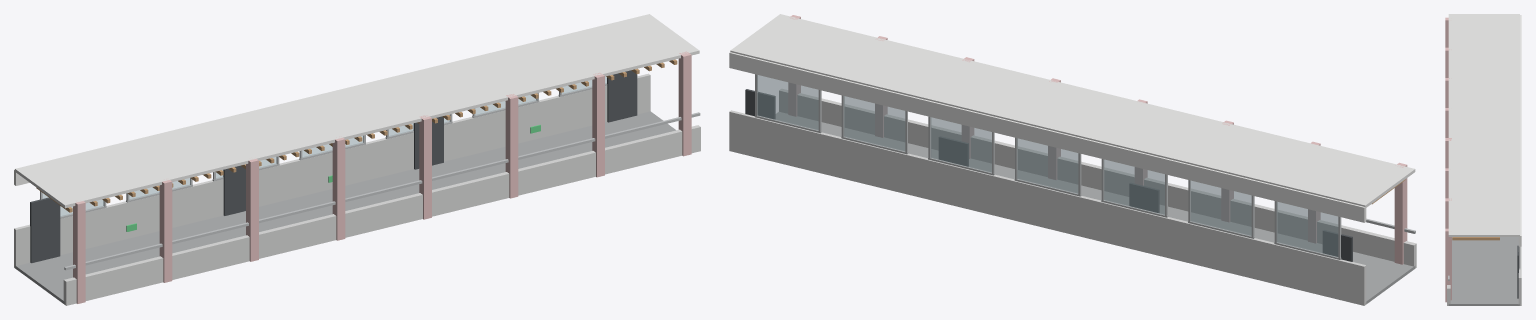
The model's file is corridor.glb.
3 renders of one model, left to right at view 1: azimuth 30°, elevation 25°; view 2: azimuth 150°, elevation 25°; view 3: azimuth 270°, elevation 25°, orthographic. The views are drawn at different scales.
Visible parts, largest first — view 1: COR_Ceiling, COR_InnerLower, COR_OuterKerb, COR_Floor, COR_RailTop, COR_Door_1, COR_Door_4, COR_OuterColumn_8, COR_OuterColumn_6, COR_OuterColumn_4, COR_OuterColumn_2, COR_OuterColumn_1 (+5 smaller); view 2: COR_Ceiling, COR_InnerLower, COR_OuterKerb, COR_InnerTop, COR_Floor, COR_ClassWindow_1_Glass, COR_ClassWindow_2_Glass, COR_ClassWindow_4_Glass, COR_ClassWindow_5_Glass, COR_ClassWindow_7_Glass, COR_ClassWindow_6_Glass, COR_ClassWindow_3_Glass (+5 smaller); view 3: COR_Ceiling, COR_Floor, COR_InnerTop, COR_OuterColumn_8, COR_WoodSlat_50, COR_InnerLower, COR_OuterColumn_5, COR_OuterColumn_7, COR_OuterColumn_2, COR_OuterColumn_1, COR_OuterColumn_6, COR_OuterColumn_3 (+3 smaller).
Boxes of the visible parts, x1,y1,x2,y2 form: COR_Ceiling: (15,14,699,208); COR_InnerLower: (14,73,650,267); COR_OuterKerb: (63,125,700,305); COR_Floor: (15,111,675,304); COR_RailTop: (64,112,700,270); COR_Door_1: (30,197,60,263); COR_Door_4: (607,70,637,122); COR_OuterColumn_8: (678,51,691,156); COR_OuterColumn_6: (505,94,518,198); COR_OuterColumn_4: (332,136,345,240); COR_OuterColumn_2: (159,179,172,282); COR_OuterColumn_1: (73,201,85,303); COR_Ceiling: (730,14,1415,208); COR_InnerLower: (729,110,1366,305); COR_OuterKerb: (779,89,1416,268); COR_InnerTop: (729,52,1366,222); COR_Floor: (776,112,1415,304); COR_ClassWindow_1_Glass: (1277,201,1338,257); COR_ClassWindow_2_Glass: (1190,180,1251,235); COR_ClassWindow_4_Glass: (1017,138,1078,193); COR_ClassWindow_5_Glass: (930,117,991,172); COR_ClassWindow_7_Glass: (757,75,818,130); COR_ClassWindow_6_Glass: (844,96,905,151); COR_ClassWindow_3_Glass: (1104,159,1164,214); COR_Ceiling: (1448,14,1519,236); COR_Floor: (1448,237,1519,305); COR_InnerTop: (1518,15,1521,246); COR_OuterColumn_8: (1445,228,1451,302); COR_WoodSlat_50: (1452,237,1499,240); COR_InnerLower: (1518,246,1521,305); COR_OuterColumn_5: (1445,138,1451,168); COR_OuterColumn_7: (1445,198,1451,228); COR_OuterColumn_2: (1445,47,1451,77); COR_OuterColumn_1: (1445,17,1448,47); COR_OuterColumn_6: (1445,168,1448,198); COR_OuterColumn_3: (1445,78,1451,107).
Bounding box in the file's own units: 22 × 3.3 × 3.2.
